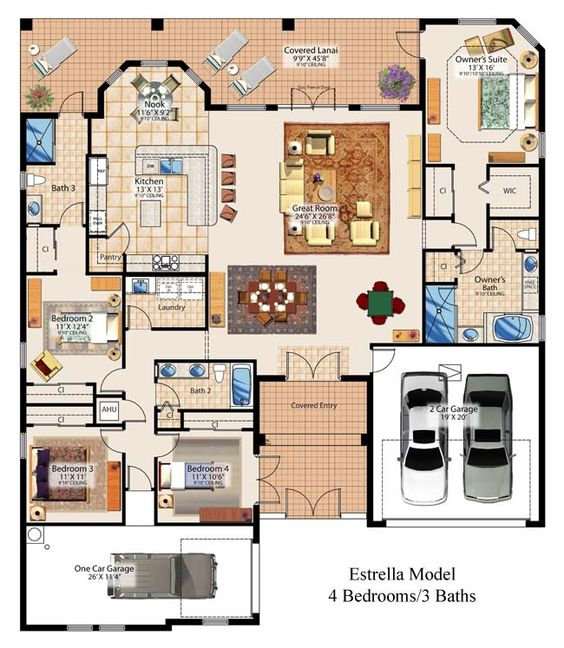door: (280, 346, 342, 376), (282, 486, 343, 512), (260, 453, 283, 508), (125, 302, 153, 329), (458, 251, 486, 278), (451, 222, 479, 249), (98, 366, 122, 395), (126, 464, 152, 489), (124, 399, 150, 424), (158, 383, 184, 408), (157, 432, 183, 457), (98, 428, 121, 454)
room: (19, 271, 125, 396), (421, 248, 544, 347), (19, 424, 125, 525), (152, 426, 258, 525)
